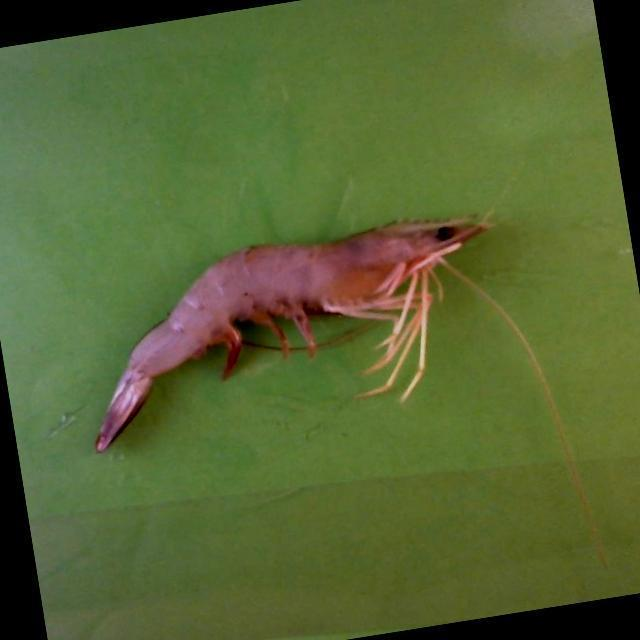shrimp: (93, 220, 485, 450)
